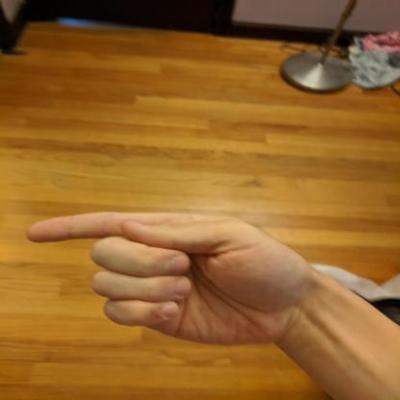hand: (22, 208, 316, 351)
